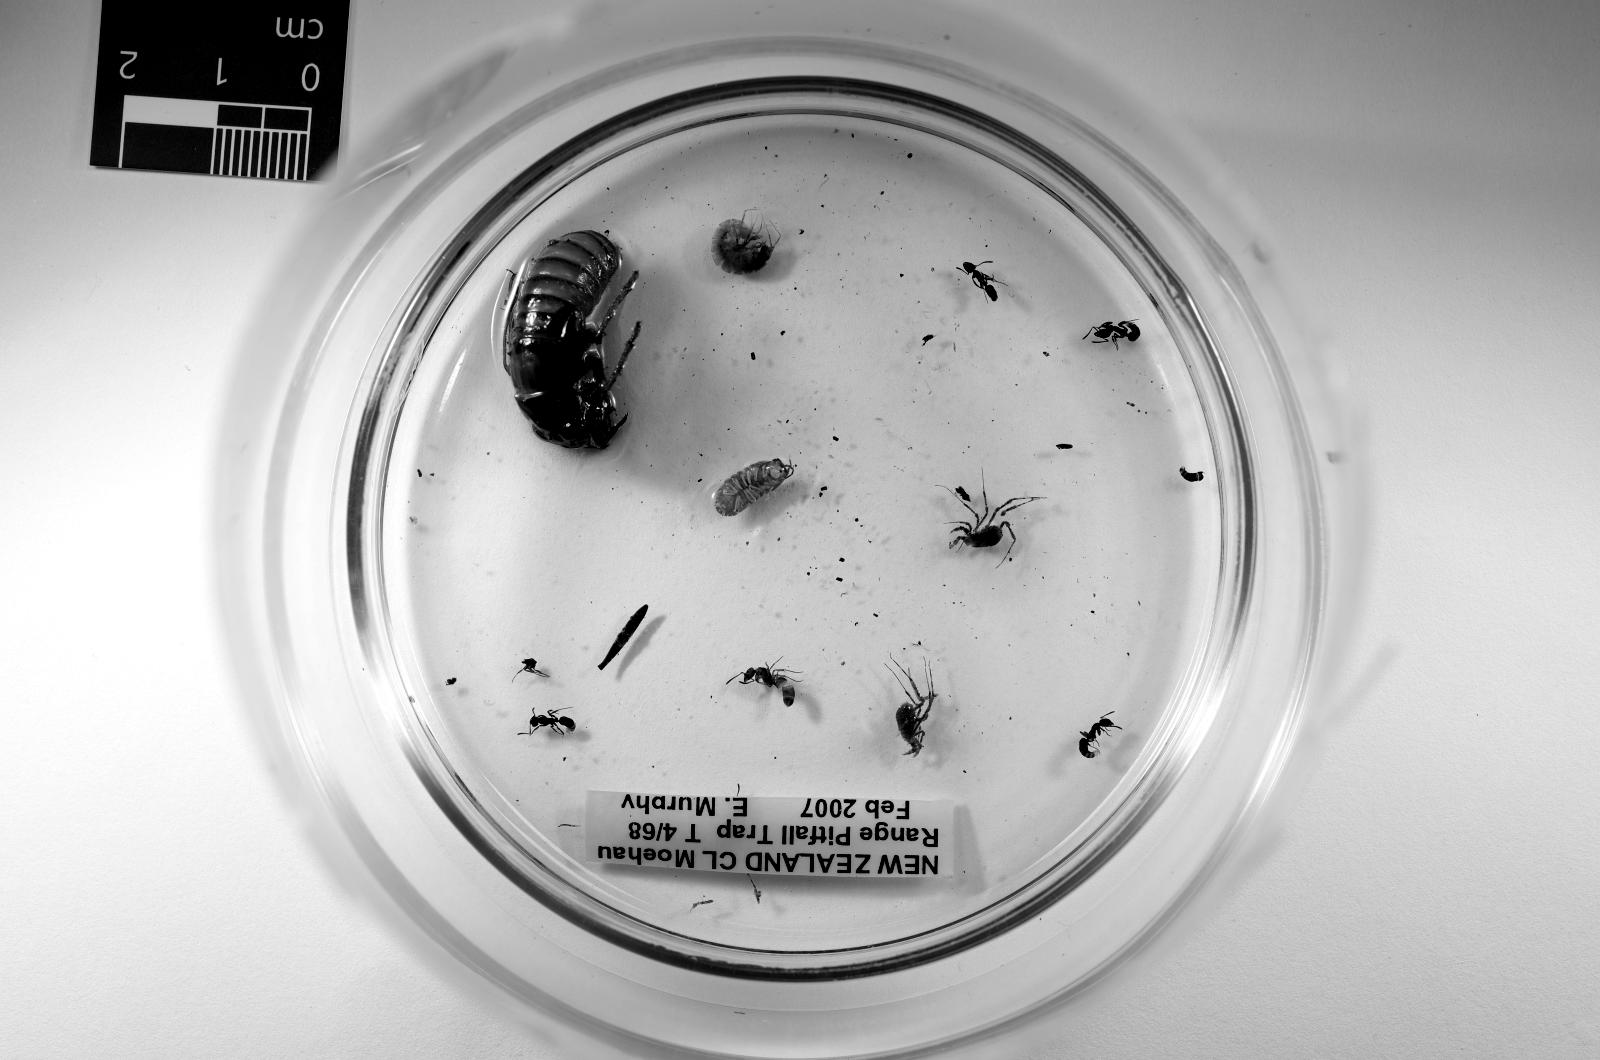amphipoda: (713, 220, 772, 273)
cicadidae: (503, 230, 641, 447)
formicidae: (728, 665, 793, 705), (1078, 715, 1119, 757), (959, 260, 997, 302), (1084, 319, 1141, 344), (519, 711, 575, 736)
isopoda: (715, 459, 793, 516)
opiliones: (950, 487, 1037, 550), (890, 661, 938, 755)
